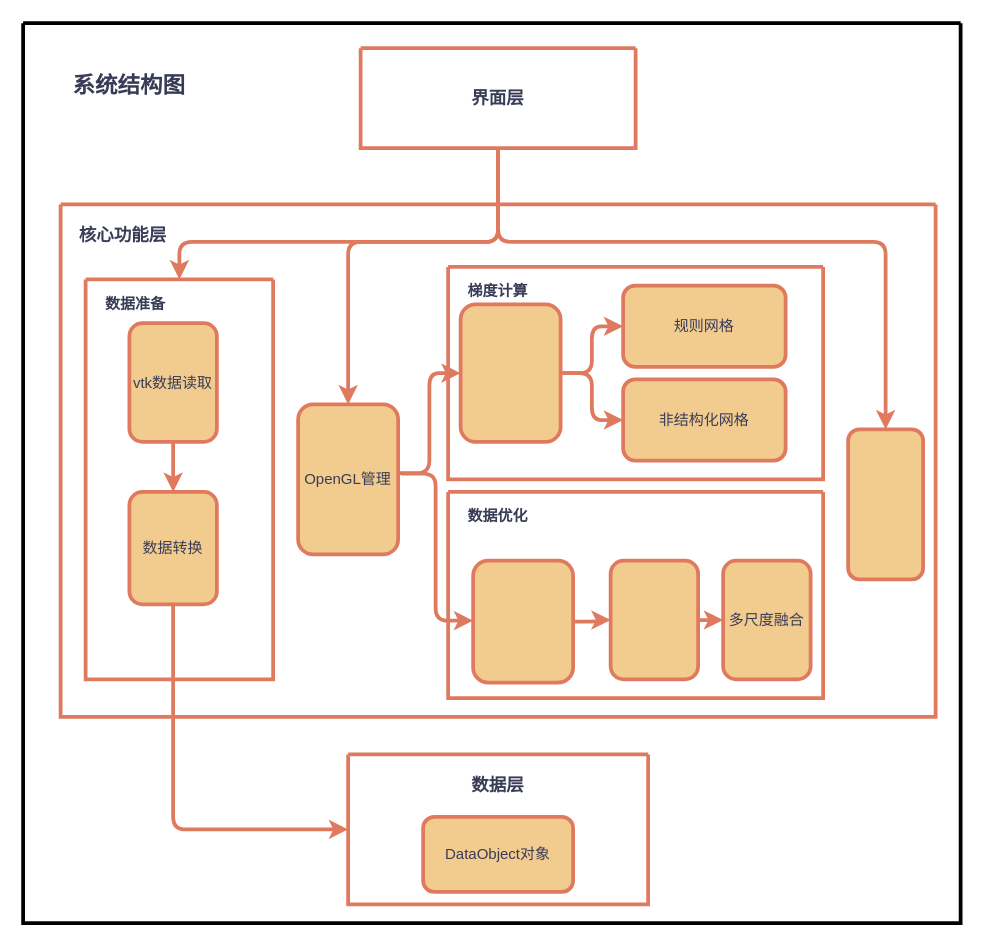
This 984x946 diagram has some shape labels left out. The box of each missing label's shape, as (x1, y1, x2, y2) in pixels:
多尺度构建: (608, 558, 699, 681)
数据优化引擎: (471, 558, 574, 684)
文件导出: (846, 427, 924, 581)
梯度计算引擎: (458, 302, 562, 443)
